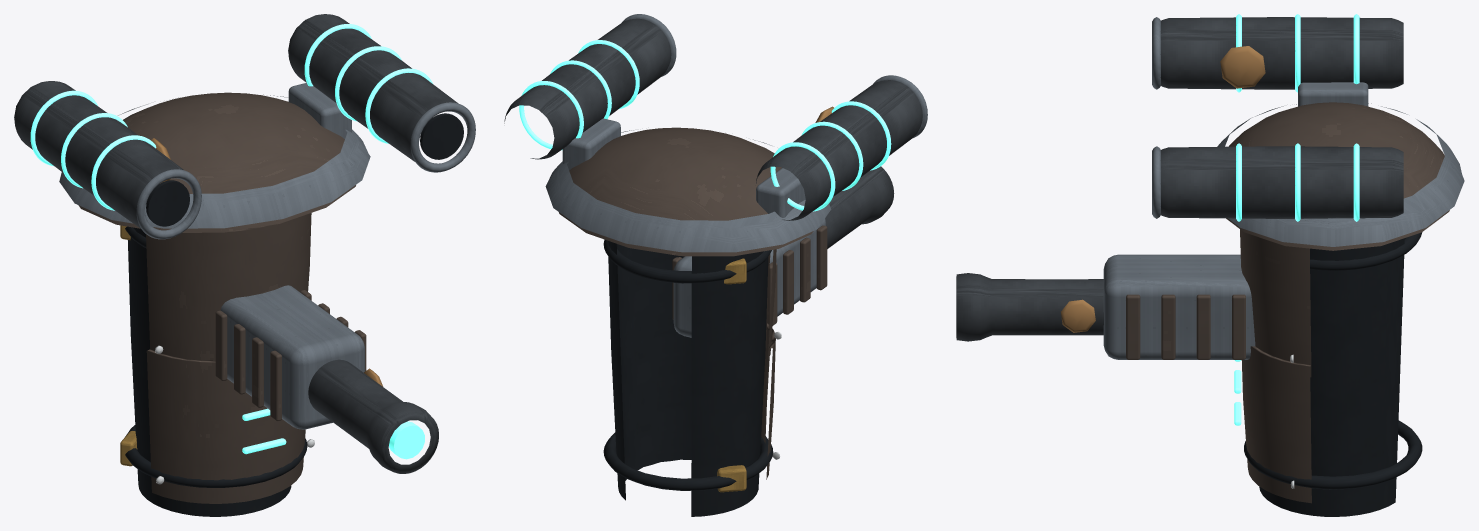
File: shoulder-mount.lod1.glb
3 renders of one model, left to right at view 1: azimuth 30°, elevation 25°; view 2: azimuth 150°, elevation 25°; view 3: azimuth 270°, elevation 25°, orthographic. The views are drawn at different scales.
Visible parts, largest first — view 1: ceramic / ceramic composite panel, darksteel / oil-blackened fittings, alloy / machined anodized alloy, polymer / stippled polymer, energy / emissive field channel; view 2: polymer / stippled polymer, darksteel / oil-blackened fittings, ceramic / ceramic composite panel, alloy / machined anodized alloy, energy / emissive field channel, brass / polished brass furniture; view 3: darksteel / oil-blackened fittings, ceramic / ceramic composite panel, polymer / stippled polymer, alloy / machined anodized alloy, energy / emissive field channel, peened pin.
Boxes of the visible parts, x1,y1,x2,y2 form: ceramic / ceramic composite panel: (78,92,366,503); darksteel / oil-blackened fittings: (14,14,458,473); alloy / machined anodized alloy: (59,83,475,429); polymer / stippled polymer: (125,113,463,516); energy / emissive field channel: (30,24,432,459); polymer / stippled polymer: (603,239,773,516); darksteel / oil-blackened fittings: (504,18,922,248); ceramic / ceramic composite panel: (559,127,827,479); alloy / machined anodized alloy: (545,14,927,337); energy / emissive field channel: (519,40,891,211); brass / polished brass furniture: (717,258,746,492); darksteel / oil-blackened fittings: (956,17,1403,341); ceramic / ceramic composite panel: (1126,102,1449,503); polymer / stippled polymer: (1244,232,1422,516); alloy / machined anodized alloy: (1103,17,1464,359); energy / emissive field channel: (1234,14,1359,425); peened pin: (1061,46,1265,332).
Size of the model in its own units: 0.327 by 0.3785 by 0.4323.
8 materials, 6 textured.
